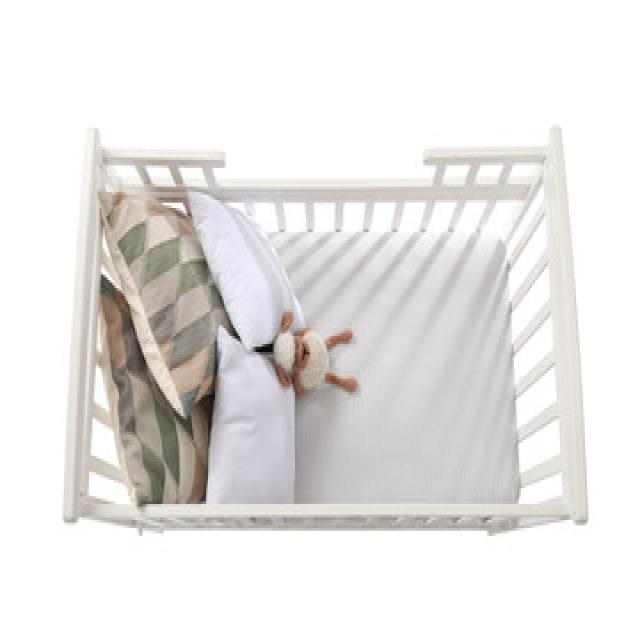crib: (83, 140, 572, 516)
